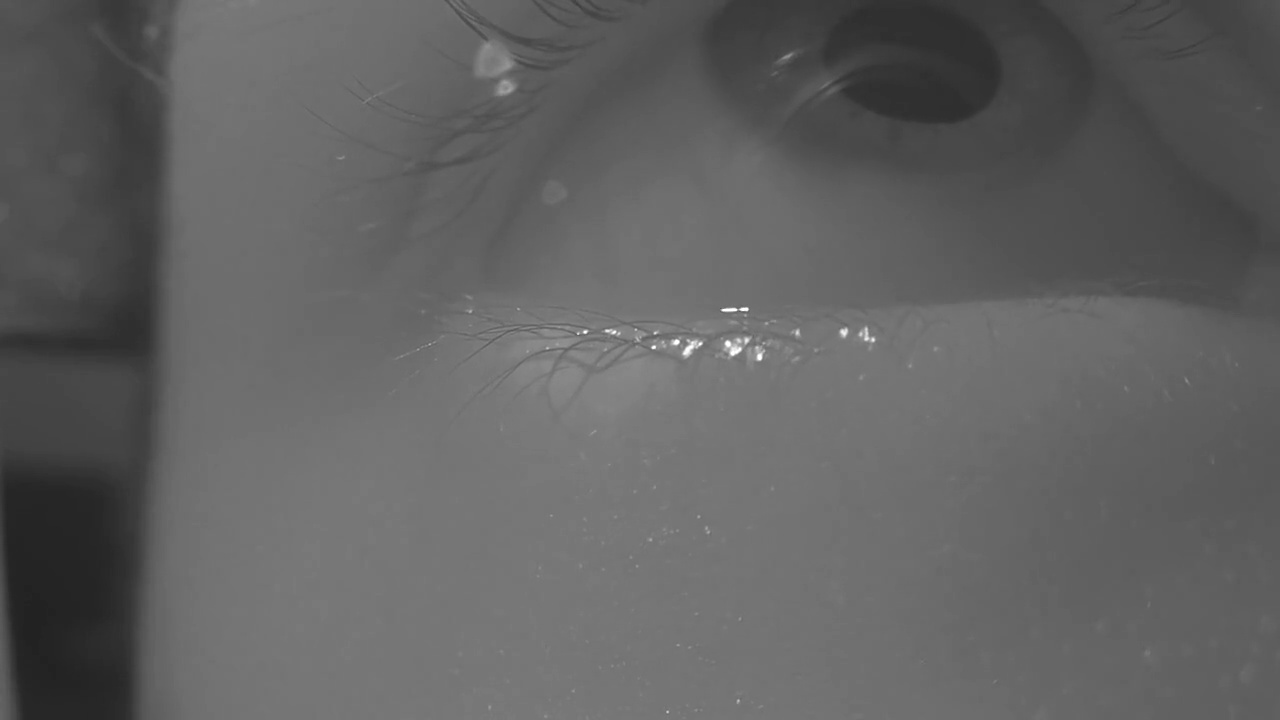pupil: (824, 1, 1003, 122)
